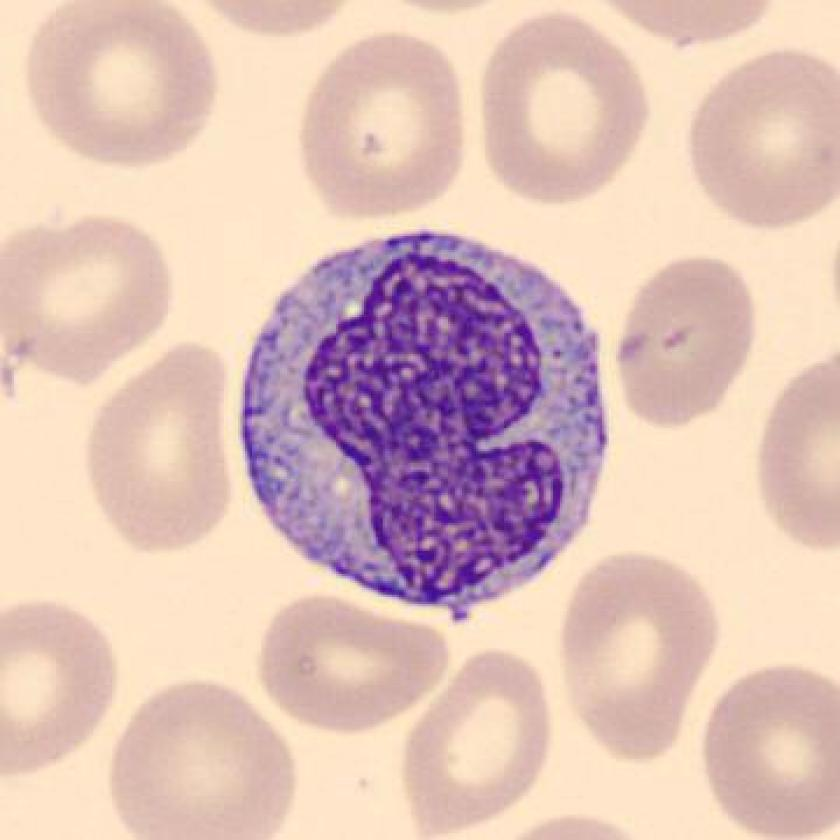monocyte: (223, 216, 636, 640)
